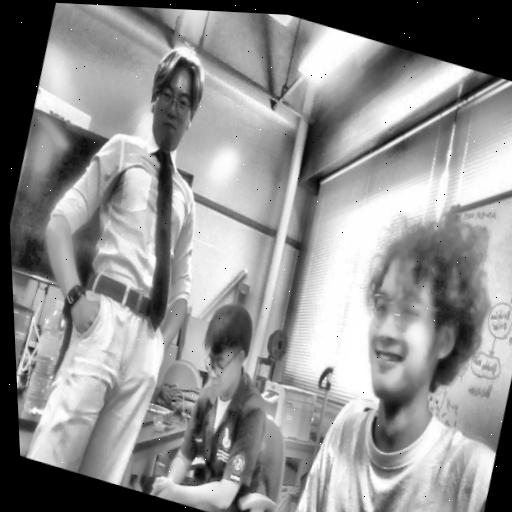Daifuku: (335, 191, 512, 438)
Not Daifuku: (137, 42, 214, 159), (191, 295, 260, 410)
